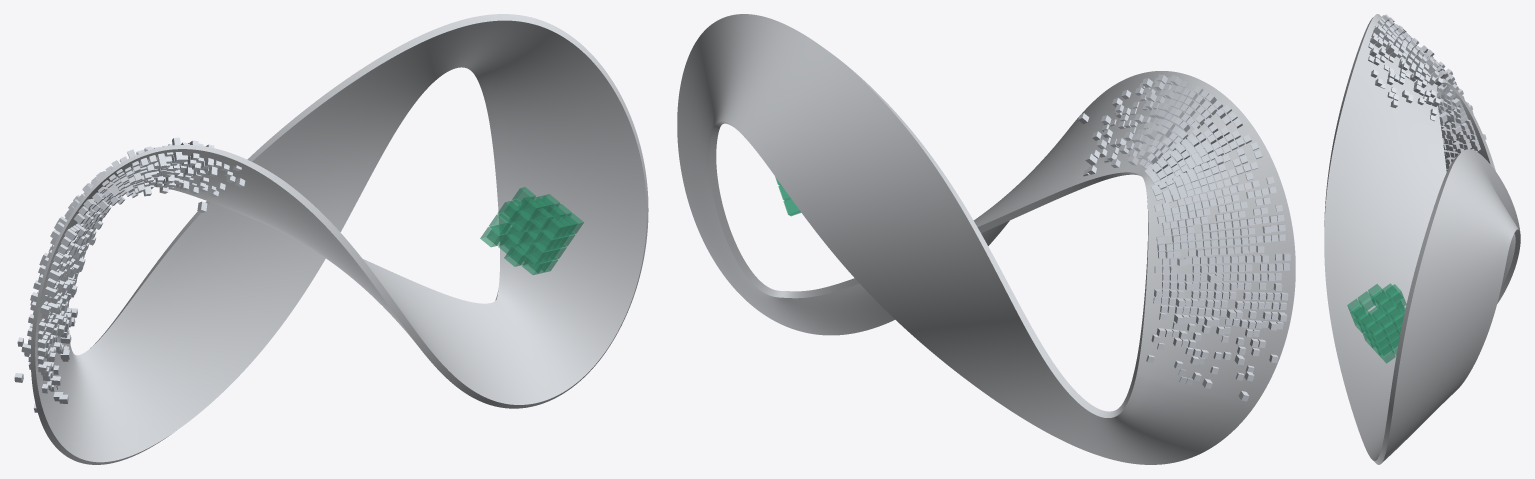
File: hero.glb
3 views of the same model, side by side, from view 1: azimuth 30°, elevation 25°; view 2: azimuth 150°, elevation 25°; view 3: azimuth 270°, elevation 25° (orthographic). The views are drawn at different scales.
Parts seen in each view (by area): view 1: RE_Ribbon, RE_Tiles, RE_EmeraldCluster; view 2: RE_Ribbon, RE_Tiles; view 3: RE_Ribbon, RE_Tiles, RE_EmeraldCluster.
Part boxes in pixels (box(x1,y1,x2,y2)): RE_Ribbon: box(30, 14, 648, 464); RE_Tiles: box(14, 137, 245, 412); RE_EmeraldCluster: box(480, 187, 583, 274); RE_Ribbon: box(677, 14, 1295, 464); RE_Tiles: box(1078, 74, 1290, 401); RE_Ribbon: box(1324, 14, 1520, 464); RE_Tiles: box(1368, 14, 1486, 171); RE_EmeraldCluster: box(1347, 283, 1406, 363).
Size of the model in its own units: 5.73 by 3.16 by 1.94.
